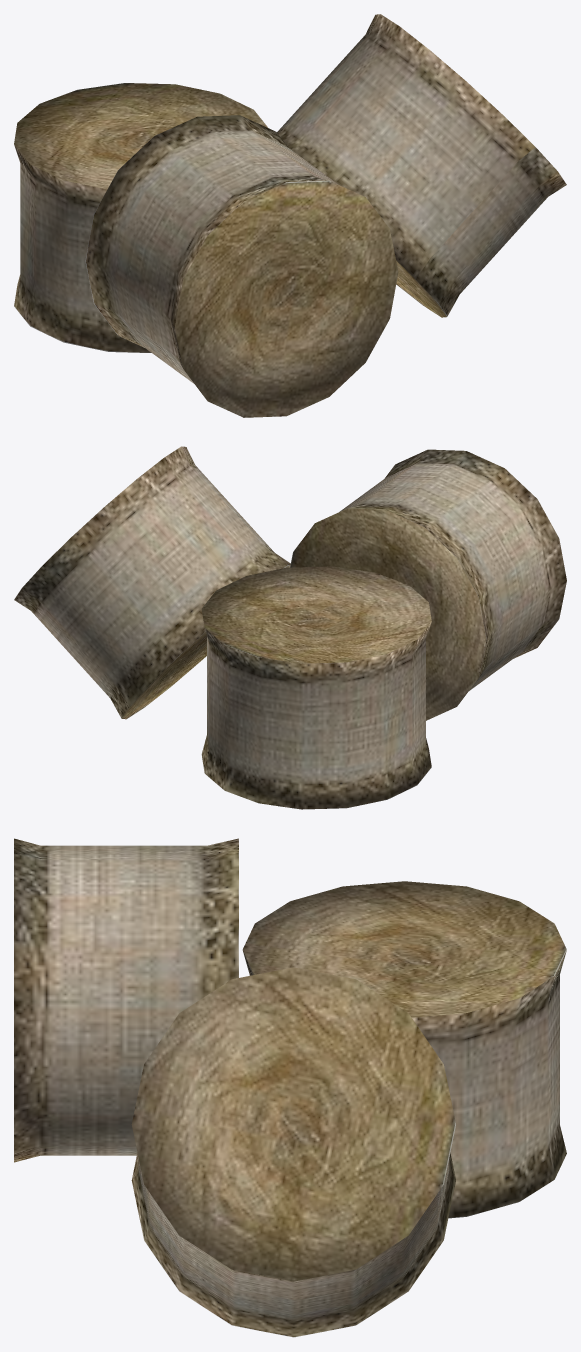
File: corncylinders.FBX
3 views of the same model, one above another, from view 1: azimuth 30°, elevation 25°; view 2: azimuth 150°, elevation 25°; view 3: azimuth 270°, elevation 25° (orthographic). The views are drawn at different scales.
Visible parts, largest first — view 1: balik, balik.002, balik.001; view 2: balik.001, balik, balik.002; view 3: balik.002, balik, balik.001.
Boxes of the visible parts, bbox=[...] form: balik: bbox=[85, 115, 398, 417]; balik.002: bbox=[277, 14, 566, 317]; balik.001: bbox=[14, 83, 267, 352]; balik.001: bbox=[201, 566, 431, 809]; balik: bbox=[290, 449, 566, 720]; balik.002: bbox=[14, 446, 290, 719]; balik.002: bbox=[131, 967, 455, 1337]; balik: bbox=[14, 838, 238, 1162]; balik.001: bbox=[242, 881, 566, 1218].
Size of the model in its own units: 104 by 58.72 by 82.54.
1 material, 1 textured.
